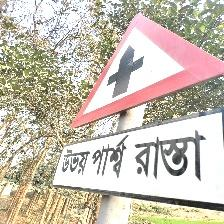Crossroad: (46, 7, 224, 224)
